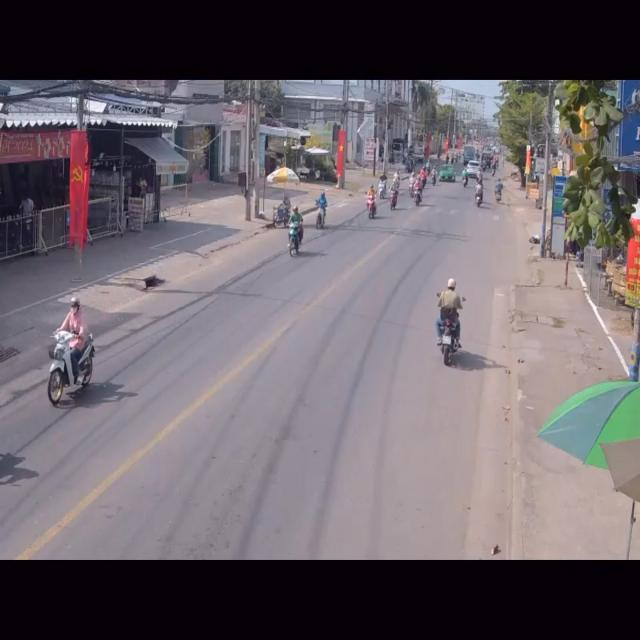motorbike: (46, 301, 94, 408), (434, 280, 464, 370), (286, 207, 304, 260), (315, 192, 328, 230), (366, 184, 376, 219)
